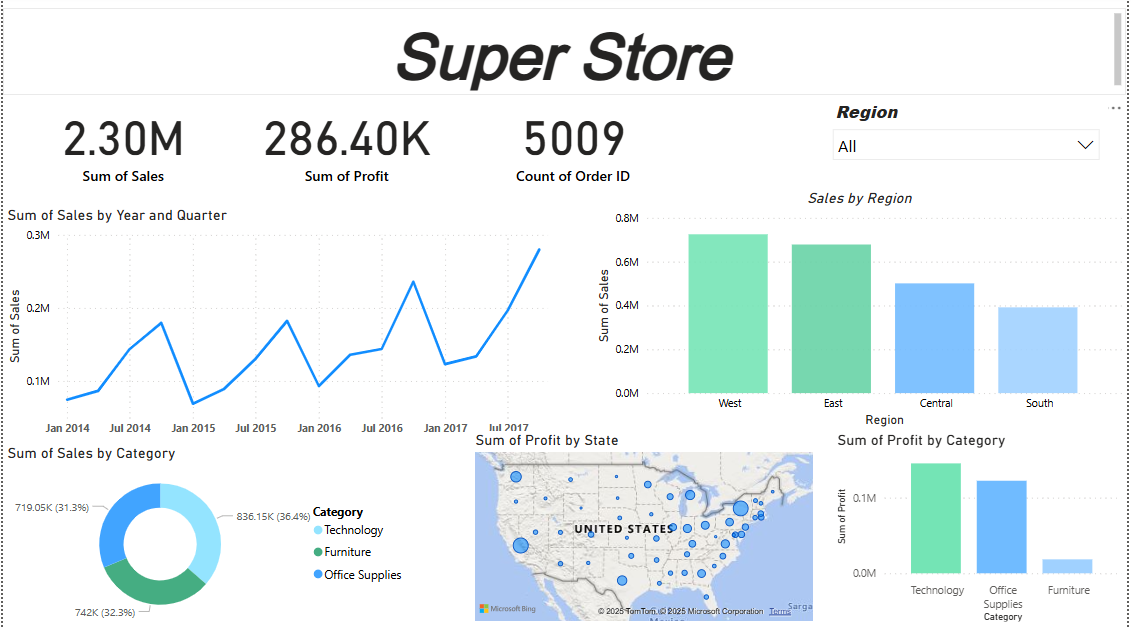

The page's visual inventory and layout, read from the dashboard file:
{"tool":"powerbi","page":{"name":"Page 1","canvas":[1280,720],"ordinal":0},"visuals":[{"type":"textbox","box":[0,13.7,1279.4,99.1],"z":0},{"type":"card","fields":{"Values":["Sum(Superstore.Sales)"]},"box":[0,113.1,273.7,106.7],"z":1000},{"type":"card","fields":{"Values":["Sum(Superstore.Profit)"]},"box":[273.7,113.1,236.5,106.7],"z":2000},{"type":"card","fields":{"Values":["Count(Superstore.Order ID)"]},"box":[533.3,113.1,232.6,106.7],"z":3000},{"type":"slicer","fields":{"Values":["Superstore.Region"]},"box":[935.3,112.8,323.5,126.5],"z":4000},{"type":"lineChart","fields":{"Category":["Superstore.MonthYear.Variation.Date Hierarchy.Year","Superstore.MonthYear.Variation.Date Hierarchy.Quarter","Superstore.MonthYear.Variation.Date Hierarchy.Month","Superstore.MonthYear.Variation.Date Hierarchy.Day"],"Y":["Sum(Superstore.Sales)"]},"box":[0,239.2,640.3,271.1],"z":4001},{"type":"columnChart","title":"Sales by Region","fields":{"Category":["Superstore.Region"],"Y":["Sum(Superstore.Sales)"]},"box":[671,219.9,609.5,275.7],"z":4002},{"type":"donutChart","fields":{"Category":["Superstore.Category"],"Y":["Sum(Superstore.Sales)"]},"box":[0,510.2,467.8,209.5],"z":4003},{"type":"map","fields":{"Category":["Superstore.State"],"Size":["Sum(Superstore.Profit)"]},"box":[533.3,496.1,394.5,222.3],"z":4004},{"type":"columnChart","fields":{"Category":["Superstore.Category"],"Y":["Sum(Superstore.Profit)"]},"box":[945.9,496.1,334.1,222.3],"z":4005}]}

Visuals, with their boxes in screenshot pixels (x1, y1, x2, y2), scaled from the page's 1280x720 canvas onto the 1131x628 screenshot:
textbox: (x1=0, y1=12, x2=1130, y2=98)
card - Sum(Superstore.Sales): (x1=0, y1=99, x2=242, y2=192)
card - Sum(Superstore.Profit): (x1=242, y1=99, x2=451, y2=192)
card - Count(Superstore.Order ID): (x1=471, y1=99, x2=677, y2=192)
slicer - Superstore.Region: (x1=826, y1=98, x2=1112, y2=209)
lineChart - Superstore.MonthYear.Variation.Date Hierarchy.Year x Superstore.MonthYear.Variation.Date Hierarchy.Quarter: (x1=0, y1=209, x2=566, y2=445)
"Sales by Region" columnChart: (x1=593, y1=192, x2=1130, y2=432)
donutChart - Superstore.Category x Sum(Superstore.Sales): (x1=0, y1=445, x2=413, y2=627)
map - Superstore.State x Sum(Superstore.Profit): (x1=471, y1=433, x2=820, y2=627)
columnChart - Superstore.Category x Sum(Superstore.Profit): (x1=836, y1=433, x2=1130, y2=627)
